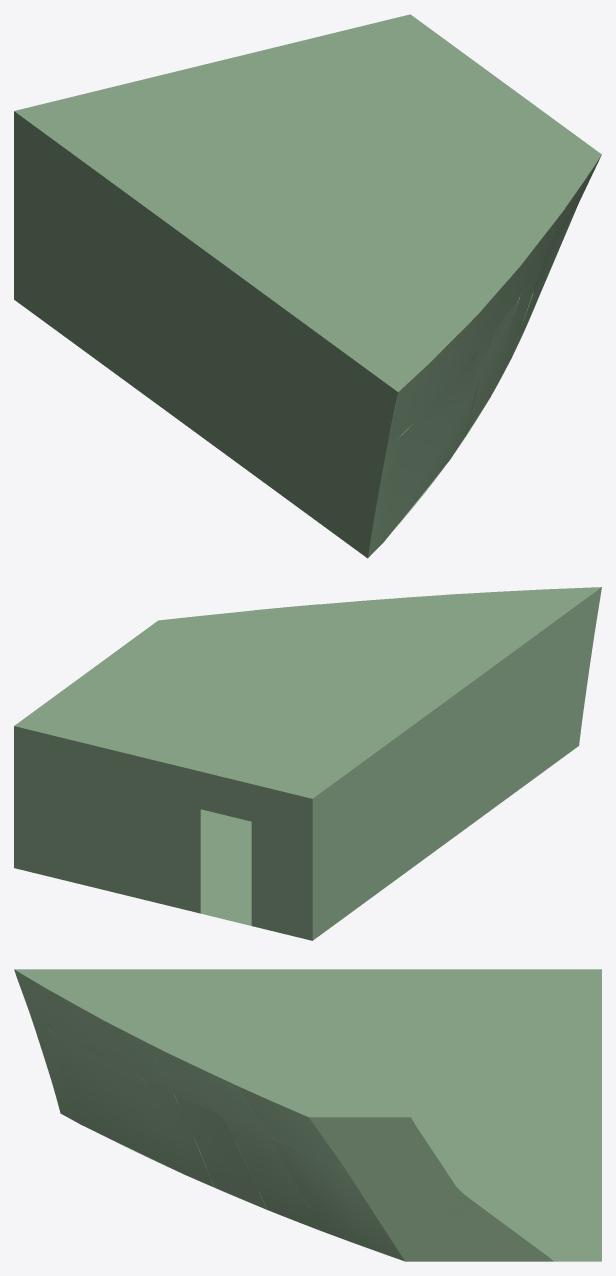
File: FWD_ELECTRICAL_PANEL_ROOM.glb
3 renders of one model, top to bottom at view 1: azimuth 30°, elevation 25°; view 2: azimuth 150°, elevation 25°; view 3: azimuth 270°, elevation 25°, orthographic. The views are drawn at different scales.
Visible parts, largest first — view 1: PL_TopRoomxFPTS_001001-8_NVA36_2014, PL_SideTransxFR100S_013002-13_NVA_1993, PL_SideTransxFR100S_013001-13_NVA_1993, PL_TopRoomxFPTS_001003-8_NVA36_2014, PL_OuterShellxFPTS_008006-20_NVA_1993, PL_SideTransxFR100S_015002-13_NVA_1993, PL_OuterShellxFPTS_008005-20_NVA_1993, PL_SideTransxFR100S_015001-13_NVA_1993, PL_OuterShellxFPTS_069002-20_NVA_1993, PL_OuterShellxFPTS_069006-20_NVA_1993; view 2: PL_TopRoomxFPTS_001001-8_NVA36_2014, PL_SideTransxFR100S_013002-13_NVA_1993, PL_SideTransxFR100S_013001-13_NVA_1993, PL_L09SectionxFPTS_006003-8_NVA36_2014, PL_L09SectionxFPTS_006001-8_NVA36_2014, PL_TopRoomxFPTS_001003-8_NVA36_2014, PL_L09SectionxFPTS_006007-8_NVA36_2014, PL_L09SectionxFPTS_006002-8_NVA36_2014, PL_TankTopxFPTS_001007-12.5_NVA_1993, PL_SideTransxFR100S_015002-13_NVA_1993, PL_L09SectionxFPTS_006006-8_NVA36_2014, PL_SideTransxFR100S_015001-13_NVA_1993 (+1 smaller); view 3: PL_TopRoomxFPTS_001001-8_NVA36_2014, PL_OuterShellxFPTS_008006-20_NVA_1993, PL_TankTopxFPTS_001007-12.5_NVA_1993, PL_TopRoomxFPTS_001003-8_NVA36_2014, PL_OuterShellxFPTS_008005-20_NVA_1993, PL_TransxFR102S_018002-25_NVA36_2014, PL_OuterShellxFPTS_069006-20_NVA_1993, PL_TransxFR102S_019002-12.5_NVA_1993, PL_OuterShellxFPTS_069002-20_NVA_1993, PL_TransxFR102S_018001-25_NVA36_2014, PL_OuterShellxFPTS_069005-20_NVA_1993, PL_TankTopxFPTS_002001-12.5_NVA_1993 (+4 smaller).
Boxes of the visible parts, bbox=[...] form: PL_TopRoomxFPTS_001001-8_NVA36_2014: bbox=[14, 34, 565, 391]; PL_SideTransxFR100S_013002-13_NVA_1993: bbox=[14, 177, 322, 525]; PL_SideTransxFR100S_013001-13_NVA_1993: bbox=[14, 111, 322, 402]; PL_TopRoomxFPTS_001003-8_NVA36_2014: bbox=[328, 14, 601, 207]; PL_OuterShellxFPTS_008006-20_NVA_1993: bbox=[368, 297, 519, 557]; PL_SideTransxFR100S_015002-13_NVA_1993: bbox=[322, 403, 386, 558]; PL_OuterShellxFPTS_008005-20_NVA_1993: bbox=[386, 244, 538, 448]; PL_SideTransxFR100S_015001-13_NVA_1993: bbox=[322, 337, 398, 449]; PL_OuterShellxFPTS_069002-20_NVA_1993: bbox=[491, 260, 544, 395]; PL_OuterShellxFPTS_069006-20_NVA_1993: bbox=[512, 205, 577, 355]; PL_TopRoomxFPTS_001001-8_NVA36_2014: bbox=[76, 587, 601, 798]; PL_SideTransxFR100S_013002-13_NVA_1993: bbox=[312, 679, 544, 940]; PL_SideTransxFR100S_013001-13_NVA_1993: bbox=[312, 629, 544, 847]; PL_L09SectionxFPTS_006003-8_NVA36_2014: bbox=[76, 791, 200, 913]; PL_L09SectionxFPTS_006001-8_NVA36_2014: bbox=[76, 741, 312, 848]; PL_TopRoomxFPTS_001003-8_NVA36_2014: bbox=[14, 610, 254, 740]; PL_L09SectionxFPTS_006007-8_NVA36_2014: bbox=[14, 776, 75, 882]; PL_L09SectionxFPTS_006002-8_NVA36_2014: bbox=[251, 834, 312, 940]; PL_TankTopxFPTS_001007-12.5_NVA_1993: bbox=[200, 815, 251, 908]; PL_SideTransxFR100S_015002-13_NVA_1993: bbox=[545, 643, 592, 770]; PL_L09SectionxFPTS_006006-8_NVA36_2014: bbox=[14, 726, 75, 790]; PL_SideTransxFR100S_015001-13_NVA_1993: bbox=[545, 587, 601, 677]; PL_TopRoomxFPTS_001001-8_NVA36_2014: bbox=[14, 969, 601, 1086]; PL_OuterShellxFPTS_008006-20_NVA_1993: bbox=[32, 1020, 266, 1209]; PL_TankTopxFPTS_001007-12.5_NVA_1993: bbox=[94, 1117, 601, 1209]; PL_TopRoomxFPTS_001003-8_NVA36_2014: bbox=[240, 1086, 601, 1117]; PL_OuterShellxFPTS_008005-20_NVA_1993: bbox=[14, 969, 221, 1115]; PL_TransxFR102S_018002-25_NVA36_2014: bbox=[345, 1168, 465, 1261]; PL_OuterShellxFPTS_069006-20_NVA_1993: bbox=[270, 1137, 404, 1261]; PL_TransxFR102S_019002-12.5_NVA_1993: bbox=[407, 1168, 553, 1261]; PL_OuterShellxFPTS_069002-20_NVA_1993: bbox=[222, 1116, 320, 1230]; PL_TransxFR102S_018001-25_NVA36_2014: bbox=[309, 1117, 406, 1167]; PL_OuterShellxFPTS_069005-20_NVA_1993: bbox=[239, 1087, 343, 1167]; PL_TankTopxFPTS_002001-12.5_NVA_1993: bbox=[485, 1210, 601, 1230].
Bounding box in the file's own units: 6.6 × 3 × 11.08.
